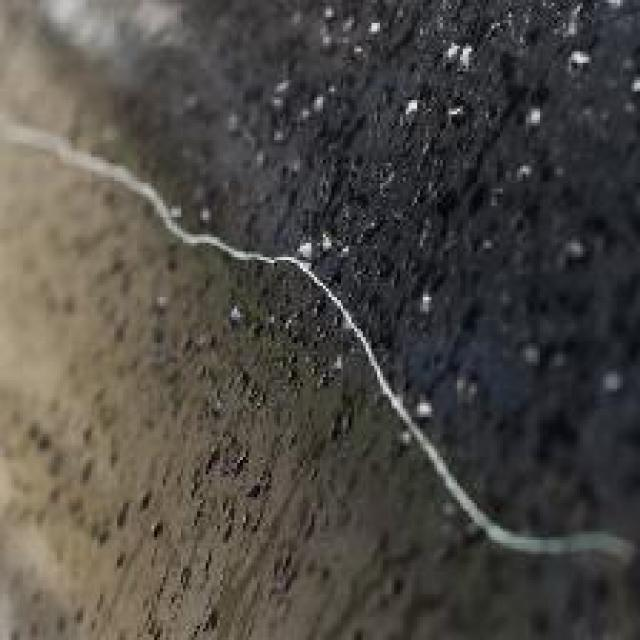damaged: (0, 119, 637, 572)
